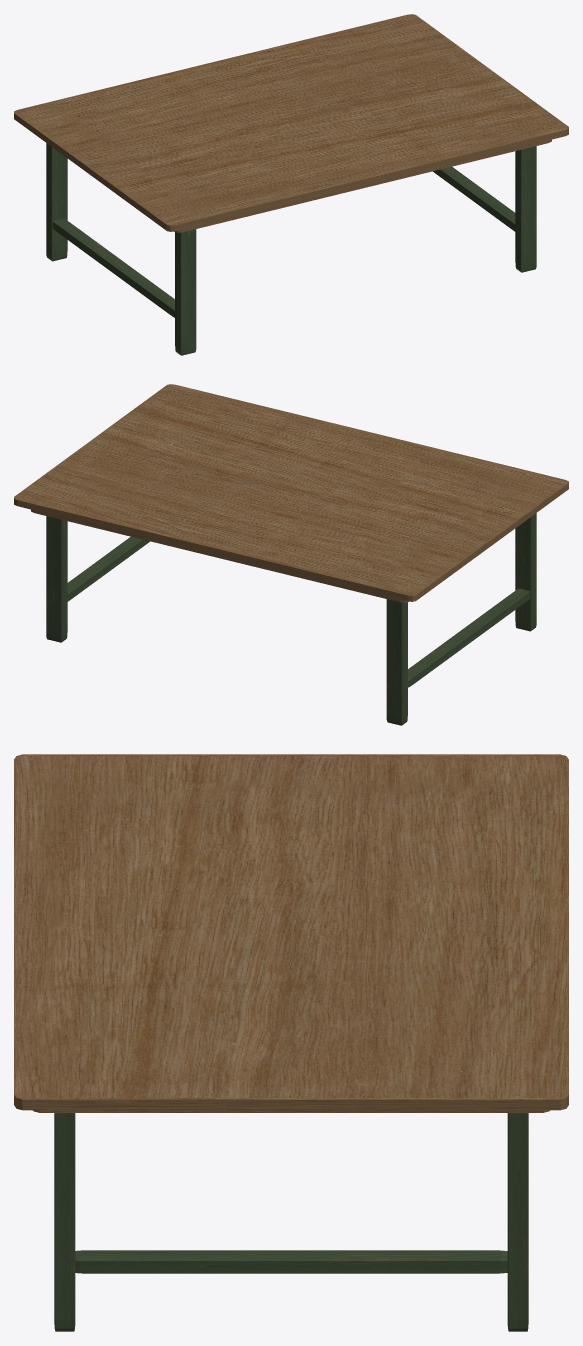
The model's file is stol2.fbx.
3 renders of one model, top to bottom at view 1: azimuth 30°, elevation 25°; view 2: azimuth 150°, elevation 25°; view 3: azimuth 270°, elevation 25°, orthographic. The views are drawn at different scales.
Visible parts, largest first — view 1: Cube.004; view 2: Cube.004; view 3: Cube.004.
Boxes of the visible parts, left/top/right/bottom form: Cube.004: left=14, top=14, right=568, bottom=355; Cube.004: left=14, top=384, right=568, bottom=725; Cube.004: left=14, top=754, right=568, bottom=1331.
Bounding box in the file's own units: 275 × 93.97 × 187.
